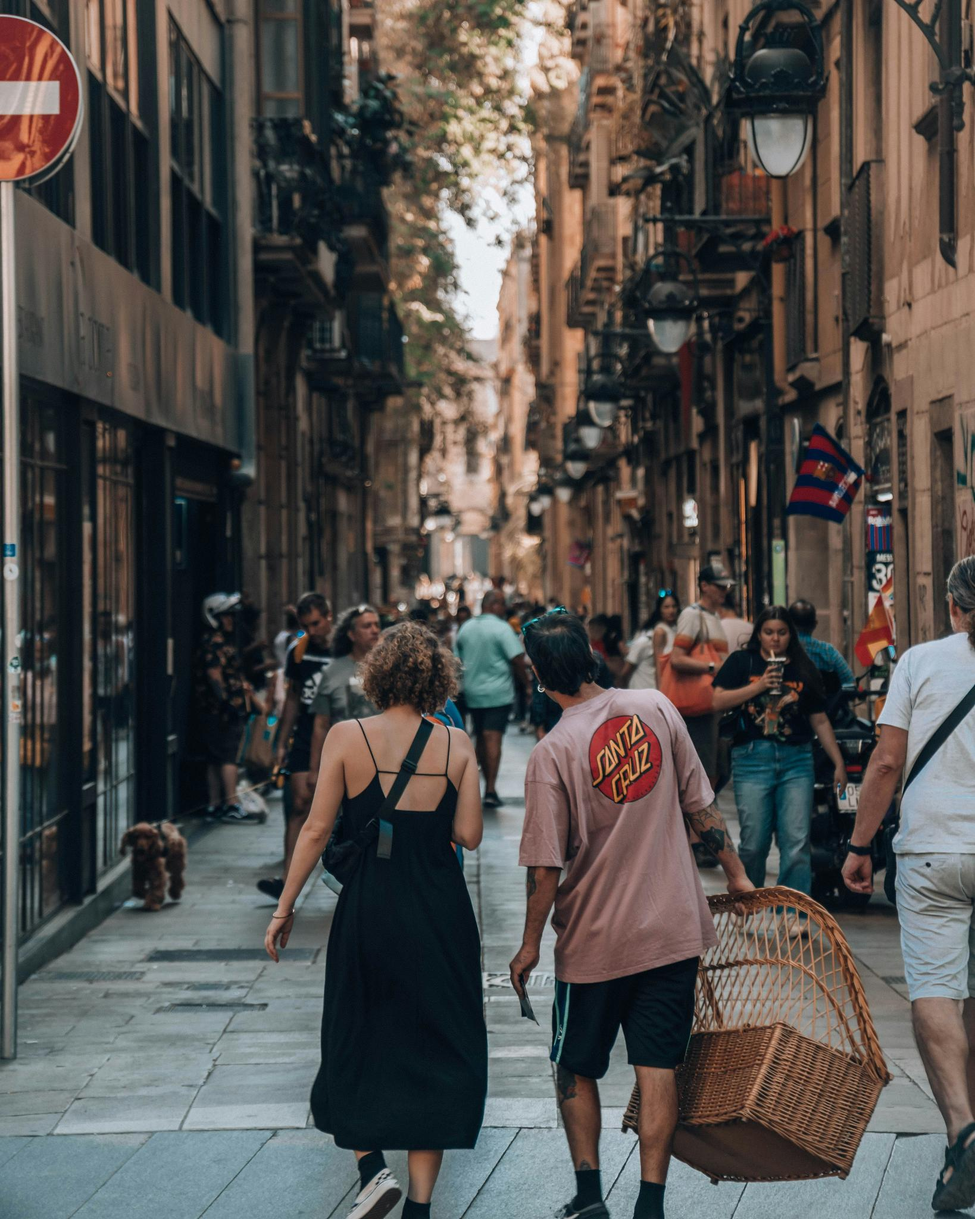pedestrian: (514, 605, 745, 1211), (271, 613, 496, 1211), (836, 551, 970, 1215), (720, 612, 856, 900), (453, 584, 532, 803), (306, 605, 382, 814), (193, 603, 265, 818), (272, 596, 335, 820), (666, 556, 743, 668)
